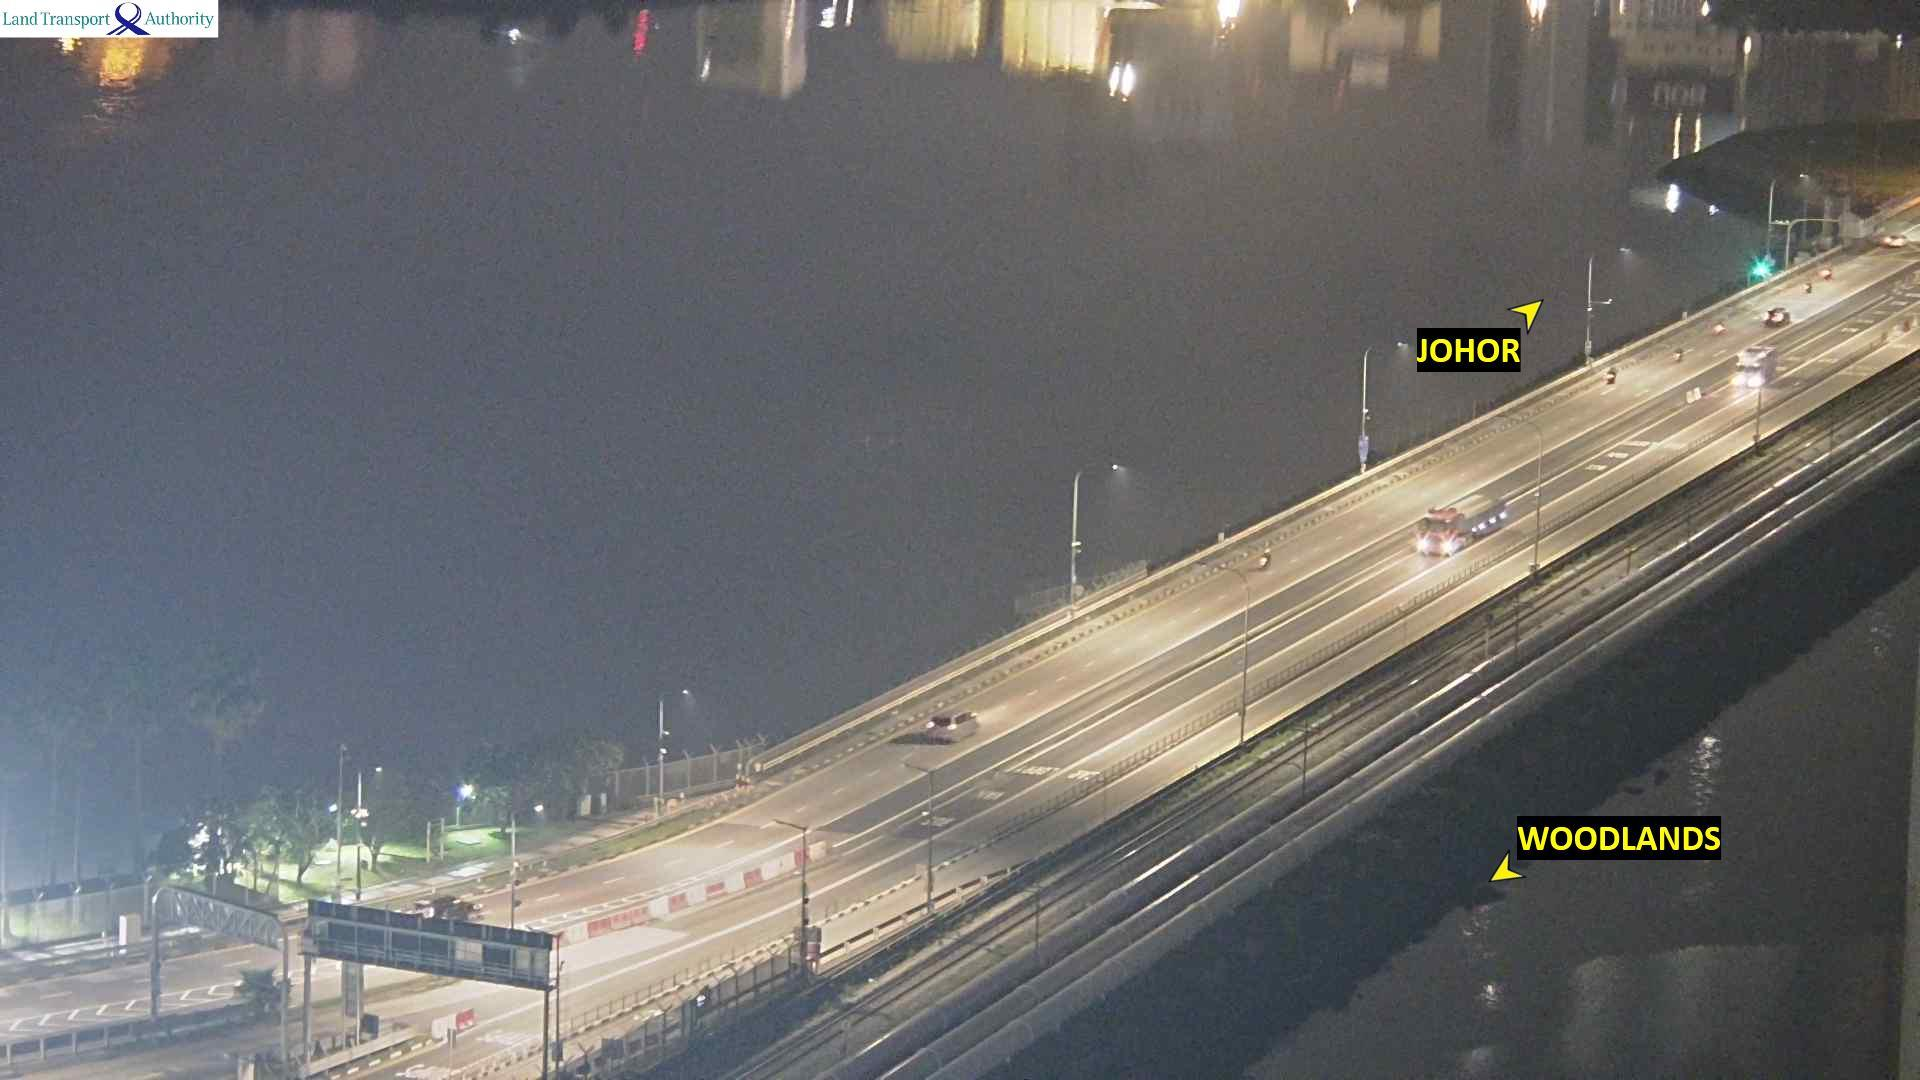vehicle-causeway-johor: (926, 711, 980, 744), (1762, 307, 1792, 327), (1886, 233, 1907, 248), (1259, 549, 1271, 570), (1713, 320, 1726, 336), (1606, 367, 1617, 384), (1672, 347, 1684, 361), (1822, 266, 1833, 280), (1804, 281, 1812, 293)
vehicle-causeway-singapore: (1412, 493, 1506, 559), (1738, 345, 1778, 388)
